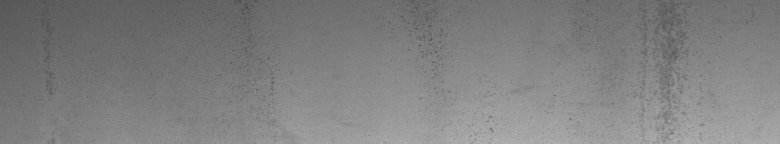ib: (400, 12, 501, 133)
